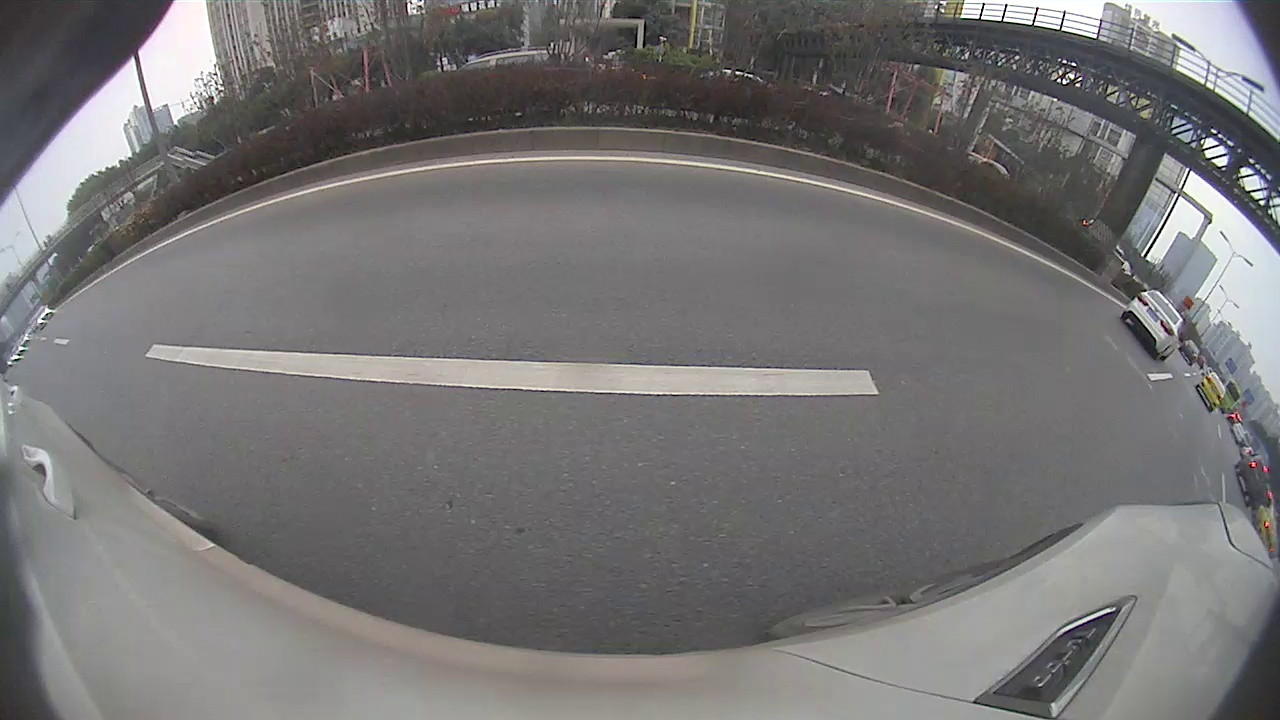car: (1119, 287, 1186, 363), (1194, 369, 1228, 414)
